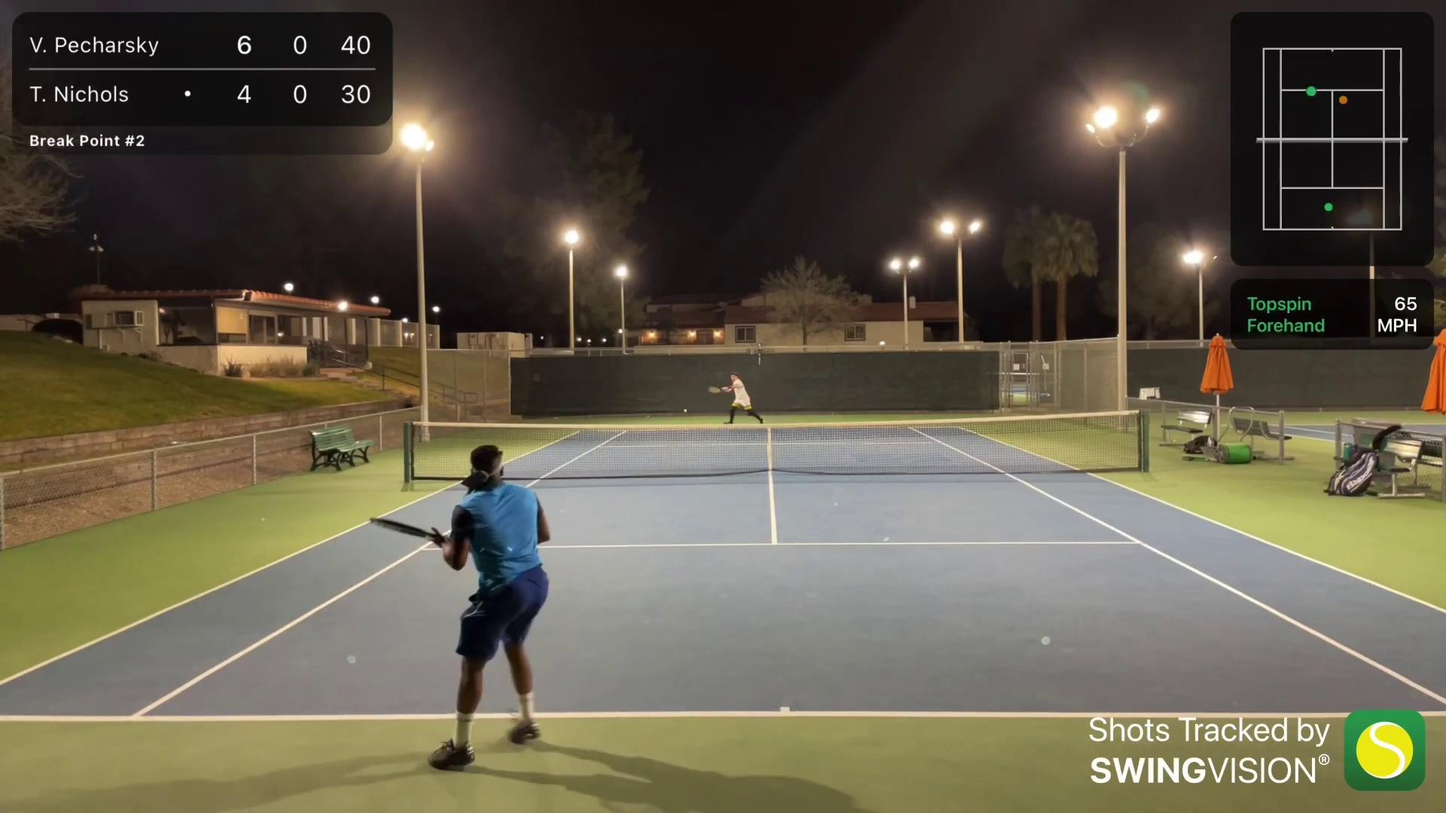ball: (678, 403, 692, 417)
